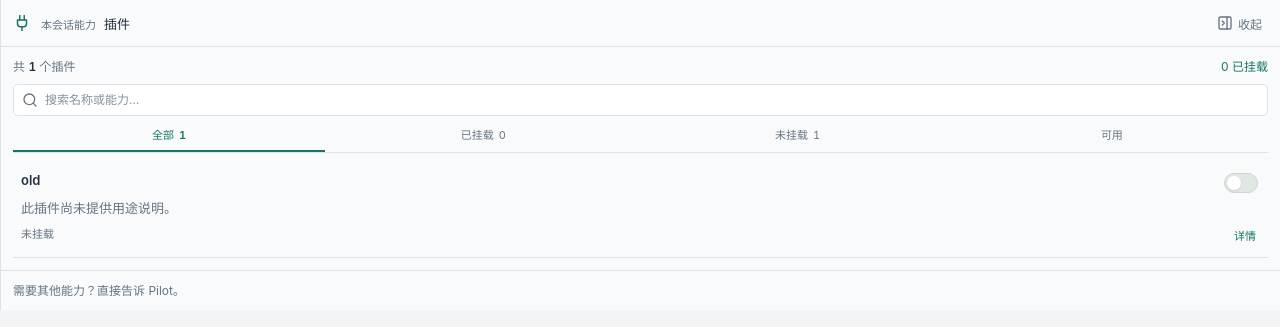
Scenario: the session plugin panel › clears old facts on a session prop change and ignores its late POST even without a remount
The width and height of the screenshot is (1280, 327).
Click the switch with class "session-plugin-switch" at [1241, 183], box [1222,171,1260,195]
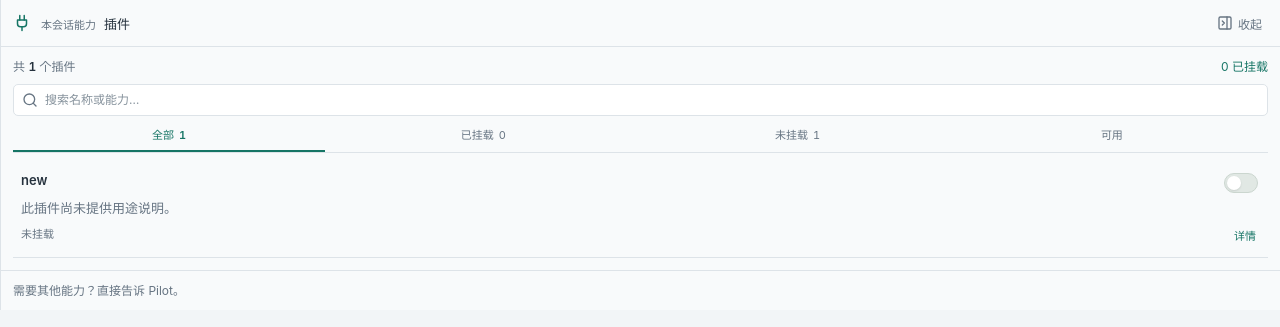
Now the text "old" is gone
Now the heading "new" is shown, box [21,172,47,188]
